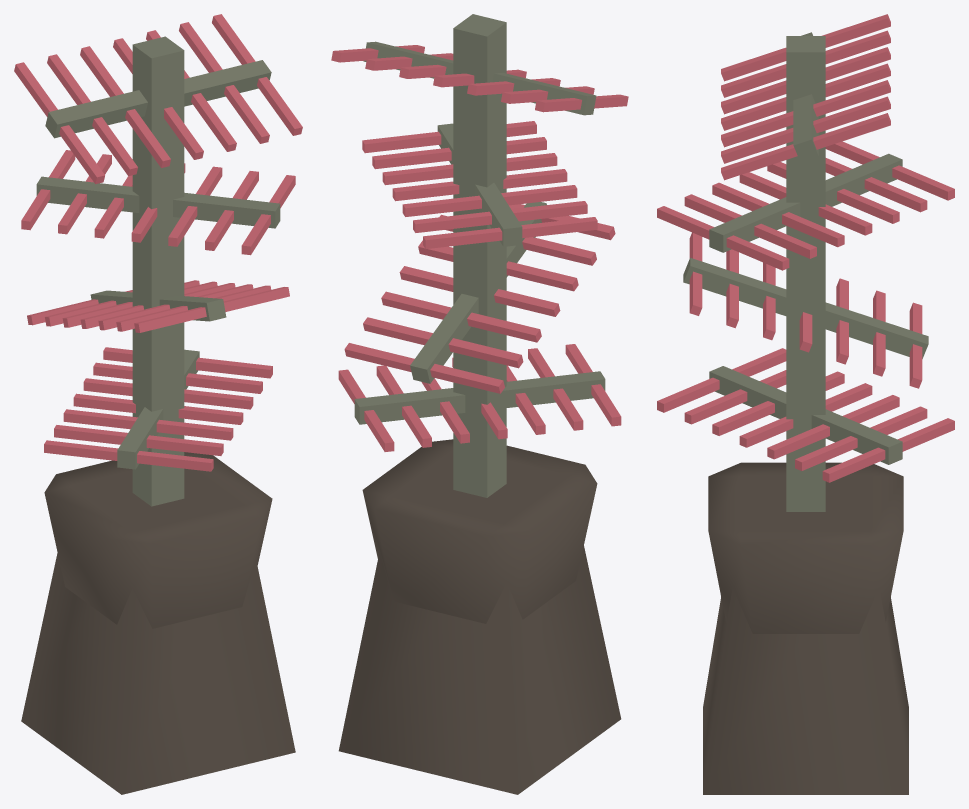
The model's file is challenge_pillar.glb.
The picture shows the model from 3 angles, left to right: view 1: azimuth 30°, elevation 25°; view 2: azimuth 150°, elevation 25°; view 3: azimuth 270°, elevation 25°; orthographic projection. The views are drawn at different scales.
Visible parts, largest first — view 1: pillar; view 2: pillar; view 3: pillar.
Part boxes in pixels (x1,y1,x2,y2): pillar: (14, 14, 302, 794); pillar: (331, 14, 628, 794); pillar: (657, 14, 954, 794).
Size of the model in its own units: 0.7637 by 2 by 0.7637.
Materials: 1 (1 with a texture image).
